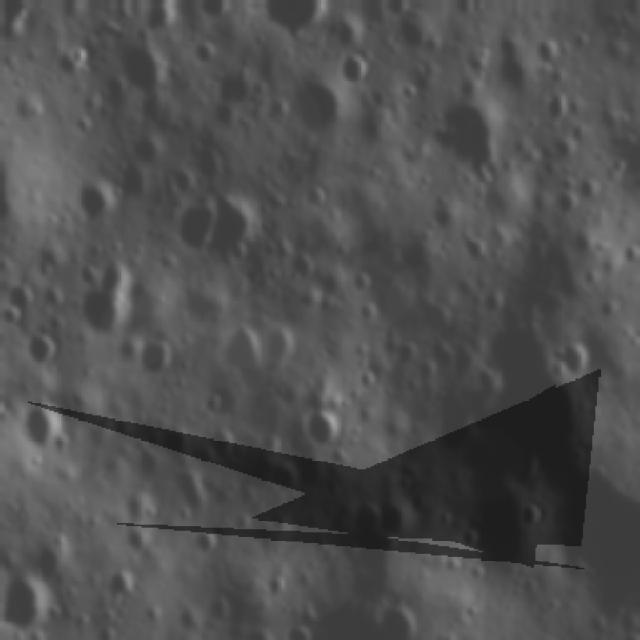crater: (0, 563, 58, 631), (70, 274, 128, 340), (15, 393, 71, 458), (163, 188, 214, 257), (363, 592, 428, 640), (217, 314, 263, 375), (255, 0, 336, 34), (72, 174, 123, 223), (302, 403, 351, 451), (256, 318, 301, 365), (372, 488, 414, 534), (555, 330, 596, 376), (332, 45, 373, 89), (17, 324, 61, 364), (134, 331, 174, 375), (130, 0, 176, 38), (98, 555, 137, 599), (127, 129, 168, 166), (298, 178, 336, 212), (191, 518, 223, 558), (547, 183, 584, 215), (540, 86, 574, 120), (569, 170, 606, 201), (185, 33, 222, 62), (528, 30, 561, 62), (278, 614, 316, 640), (519, 495, 547, 528), (550, 127, 578, 159), (193, 0, 233, 20), (238, 0, 272, 17), (612, 626, 640, 640), (0, 383, 6, 431), (443, 0, 488, 3), (490, 638, 524, 640)
